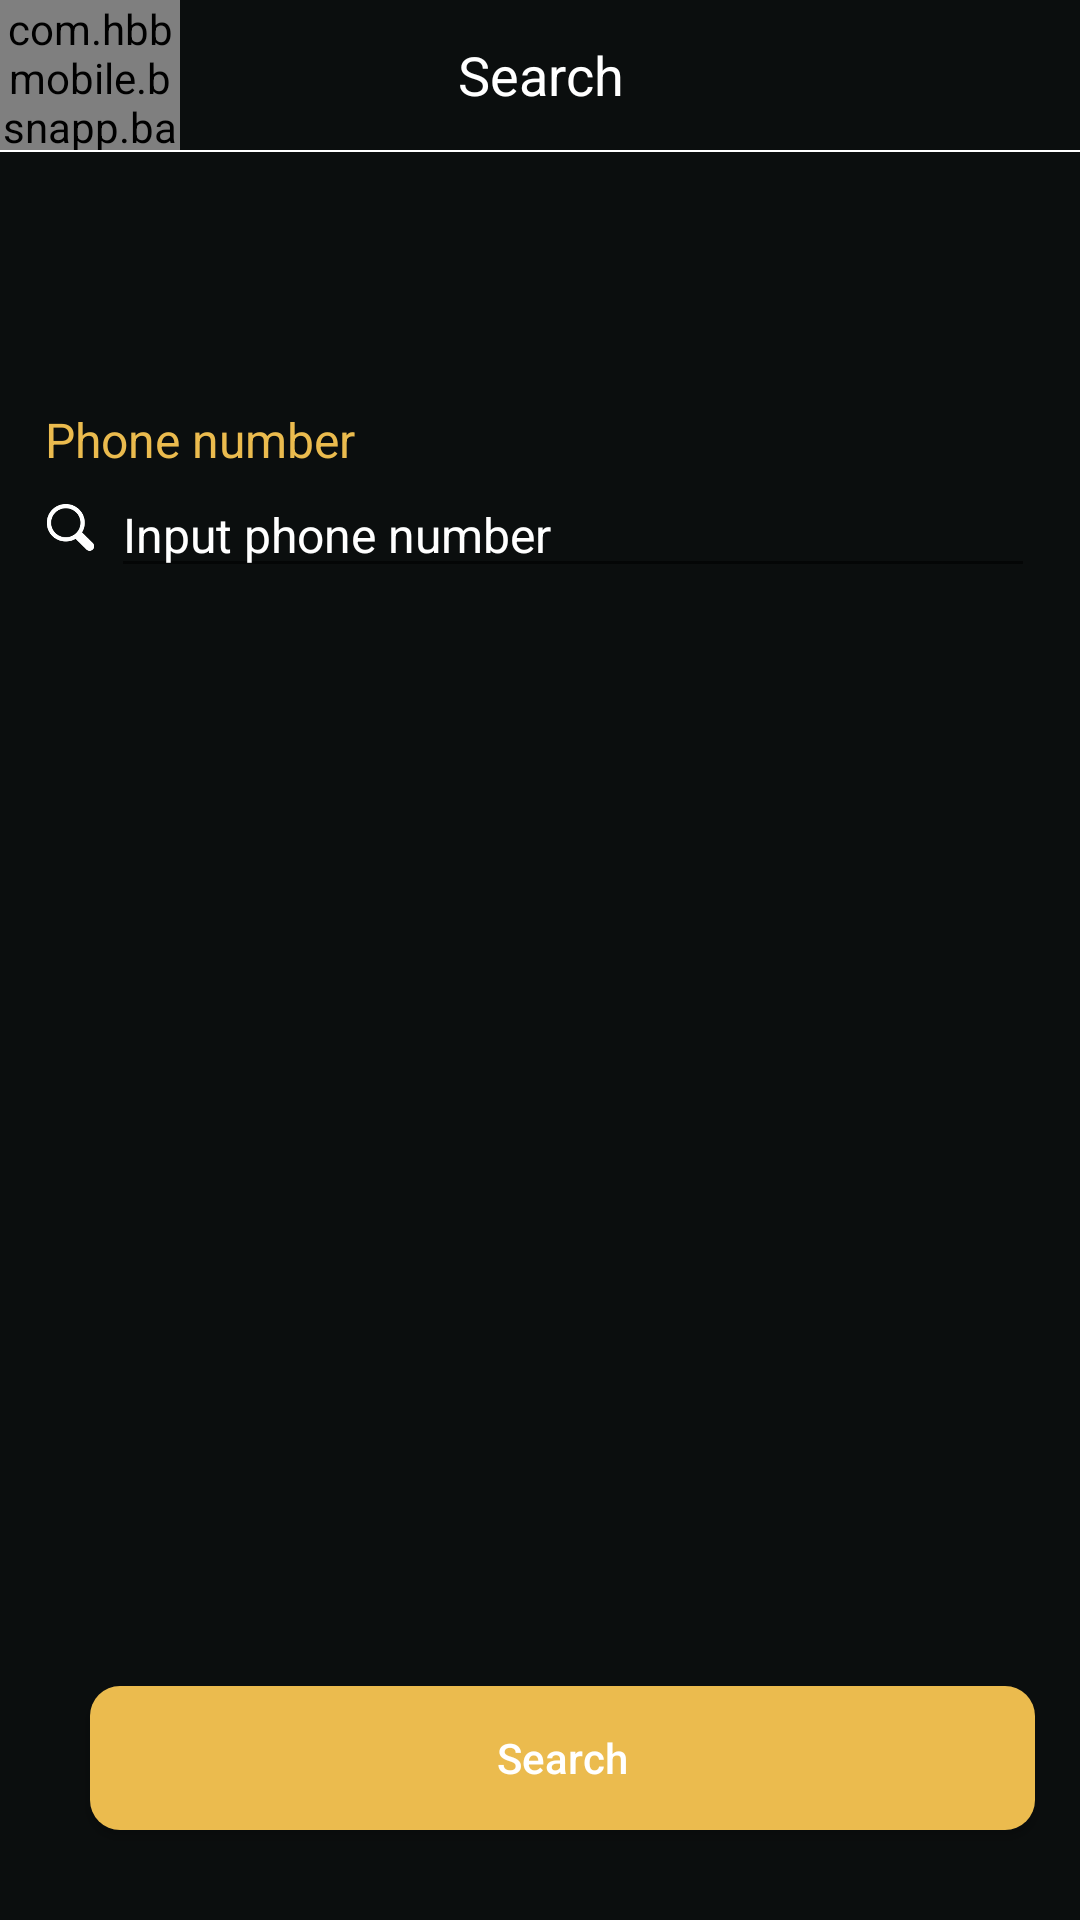

Icon click points for this 1080px×1920px phone screenshot, format (x=x, y=y):
search: (x=70, y=527)
